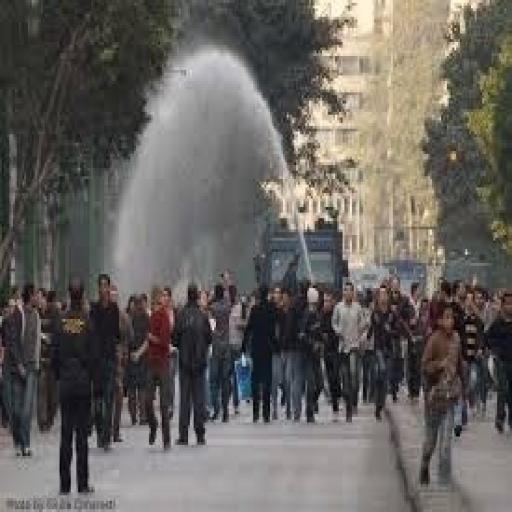running: (2, 266, 510, 498)
